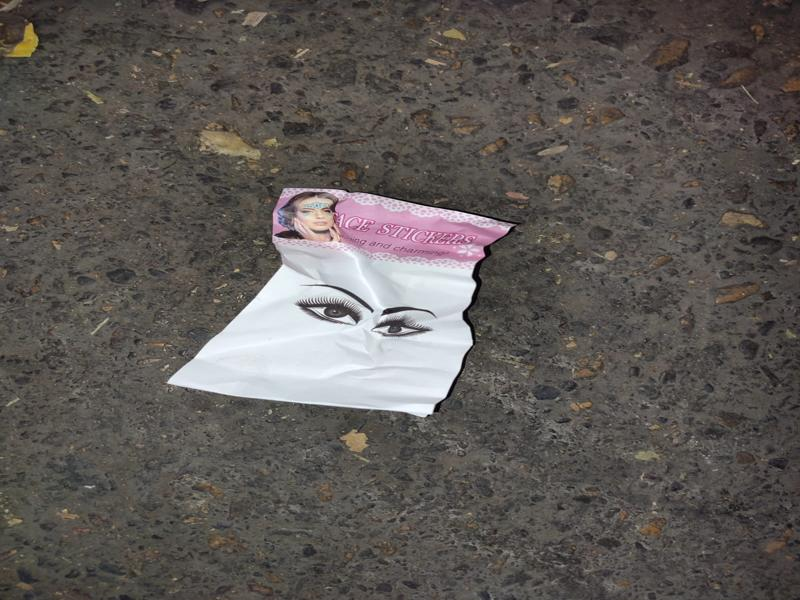papel: (168, 188, 513, 420)
